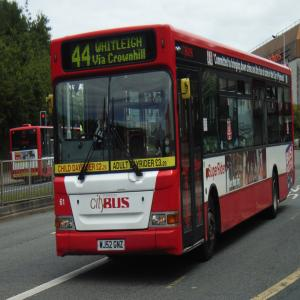Vehicle-registration-plate: (98, 241, 126, 252)
